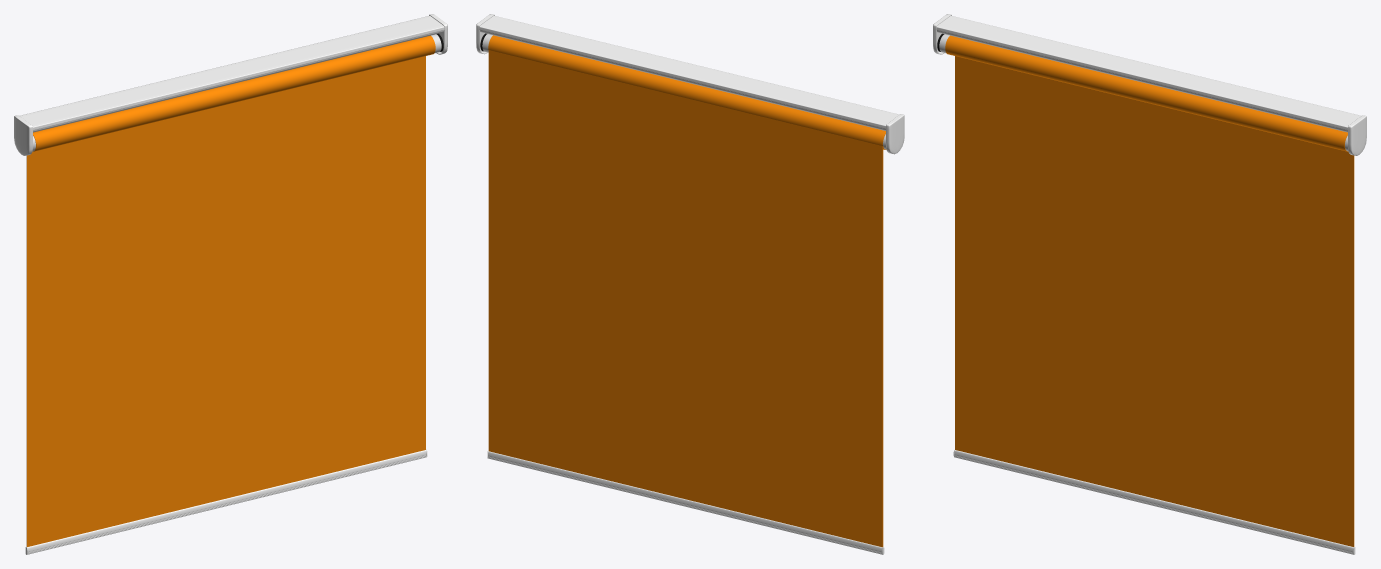
File: Standardrollo mit Traegerprofil.glb
3 renders of one model, left to right at view 1: azimuth 30°, elevation 25°; view 2: azimuth 150°, elevation 25°; view 3: azimuth 330°, elevation 25°, orthographic.
Parts seen in each view (by area): view 1: Stoff.001, Trägerprofil.001, Stoffende.001, Cube.002, Cube.007; view 2: Stoff.001, Trägerprofil.001, Stoffende.001, Cube.002, Cube.007; view 3: Stoff.001, Trägerprofil.001, Stoffende.001, Cube.002, Cube.004.
Boxes of the visible parts, x1=… form: Stoff.001: x1=26, y1=56, x2=425, y2=546; Trägerprofil.001: x1=19, y1=16, x2=444, y2=132; Stoffende.001: x1=33, y1=35, x2=435, y2=151; Cube.002: x1=27, y1=450, x2=426, y2=554; Cube.007: x1=14, y1=115, x2=32, y2=155; Stoff.001: x1=488, y1=50, x2=883, y2=547; Trägerprofil.001: x1=479, y1=16, x2=899, y2=130; Stoffende.001: x1=488, y1=35, x2=886, y2=149; Cube.002: x1=488, y1=451, x2=882, y2=554; Cube.007: x1=886, y1=114, x2=904, y2=154; Stoff.001: x1=955, y1=56, x2=1354, y2=546; Trägerprofil.001: x1=936, y1=16, x2=1361, y2=132; Stoffende.001: x1=945, y1=35, x2=1347, y2=151; Cube.002: x1=954, y1=450, x2=1353, y2=554; Cube.004: x1=1348, y1=115, x2=1366, y2=155.
Bounding box in the file's own units: 0.9999 × 0.9999 × 0.0638.
5 materials, 1 textured.
